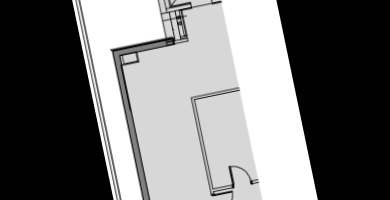door: (228, 160, 252, 189), (211, 188, 238, 200)
wall: (109, 47, 173, 200), (109, 35, 177, 60)
